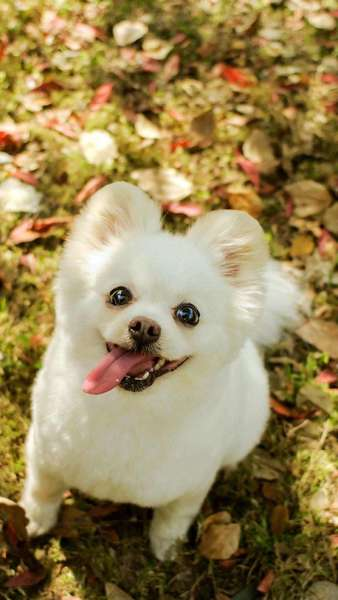dog: (51, 152, 284, 403)
